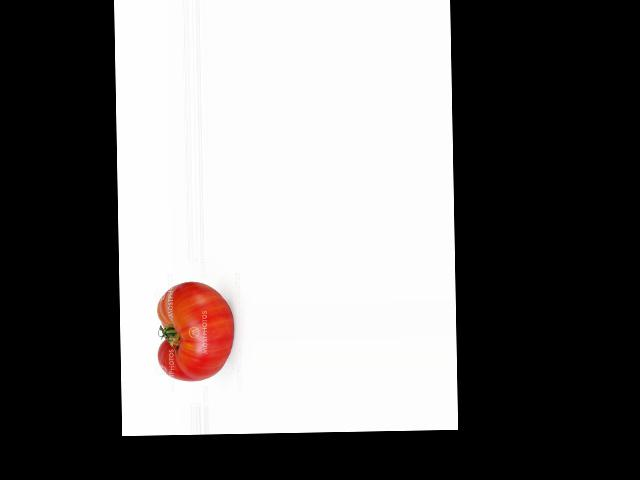tomato: (156, 280, 234, 381)
